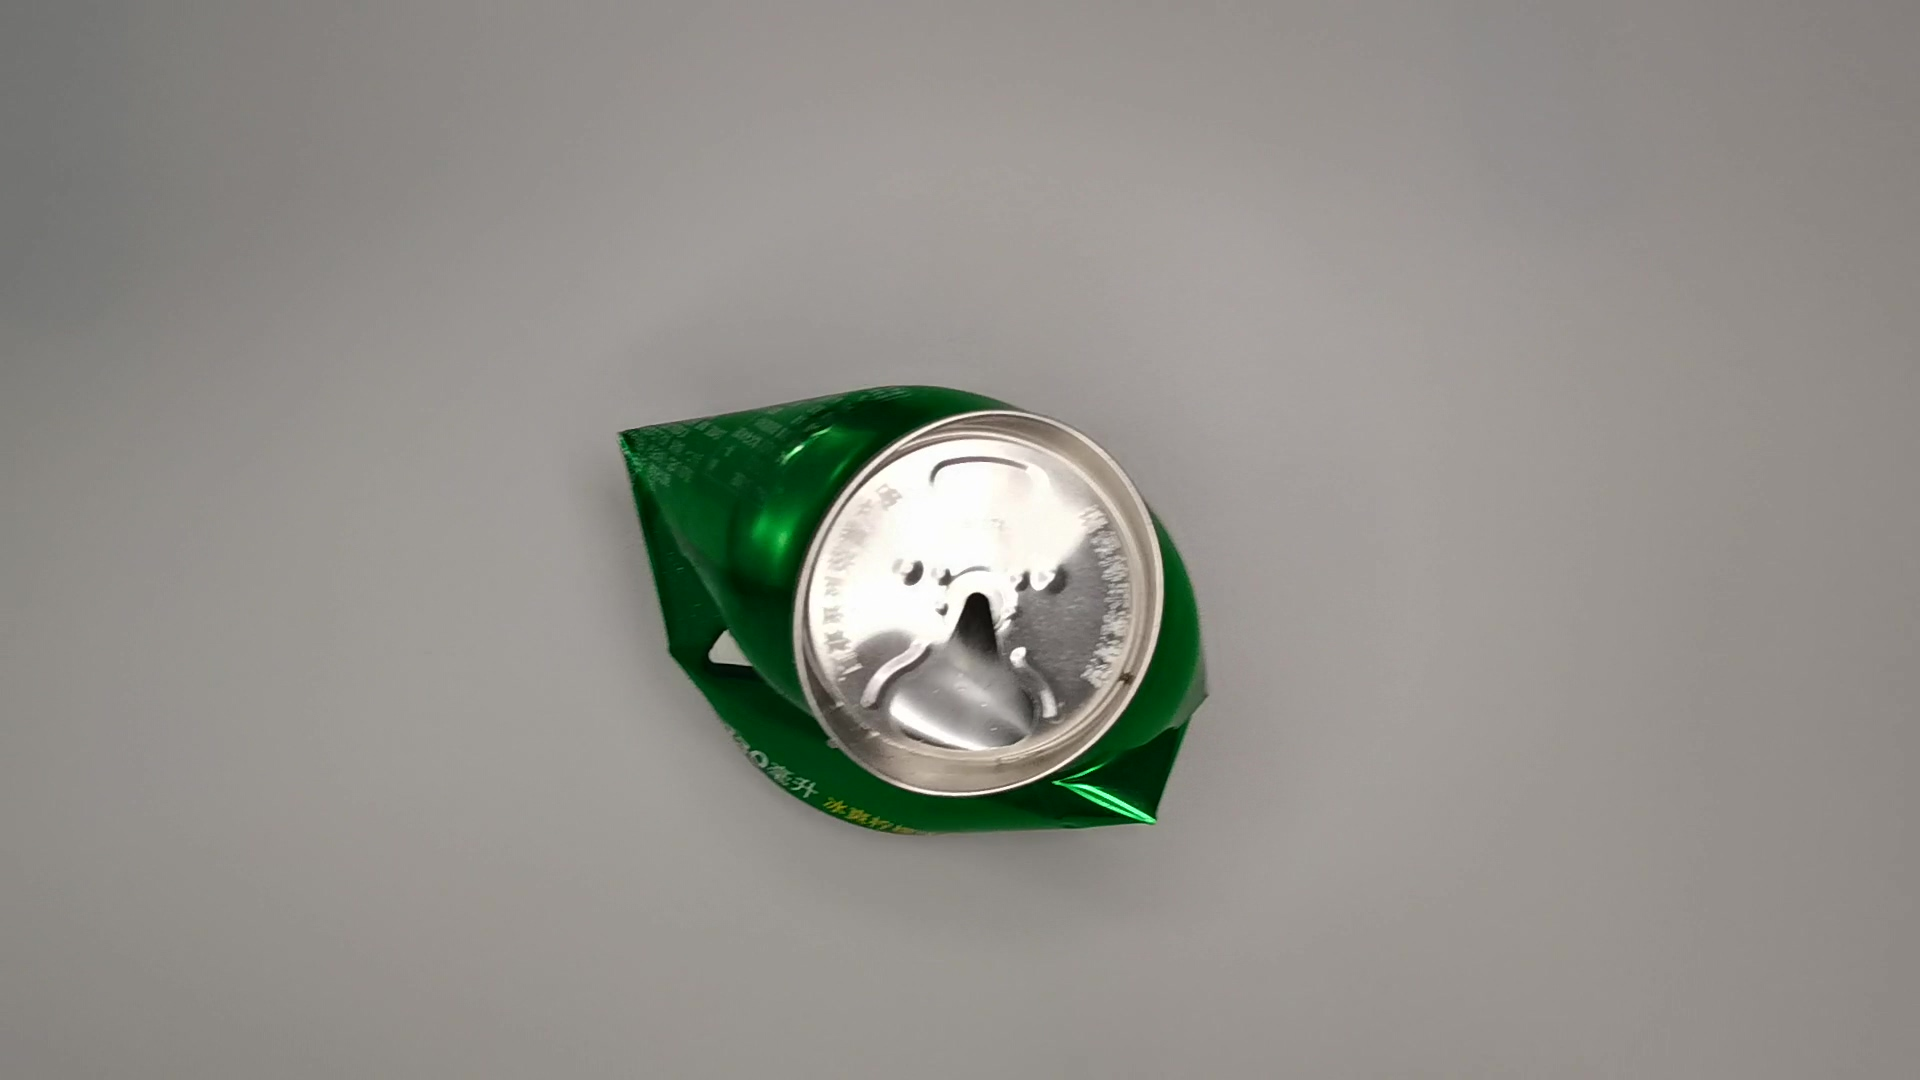can: (615, 378, 1222, 856)
